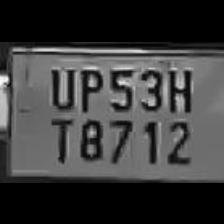1: (136, 114, 160, 162)
2: (161, 114, 193, 166)
3: (136, 64, 162, 112)
5: (103, 62, 135, 110)
7: (104, 112, 134, 164)
8: (74, 114, 104, 162)
H: (163, 62, 195, 116)
P: (74, 62, 104, 112)
T: (44, 113, 74, 162)
U: (45, 62, 75, 110)
